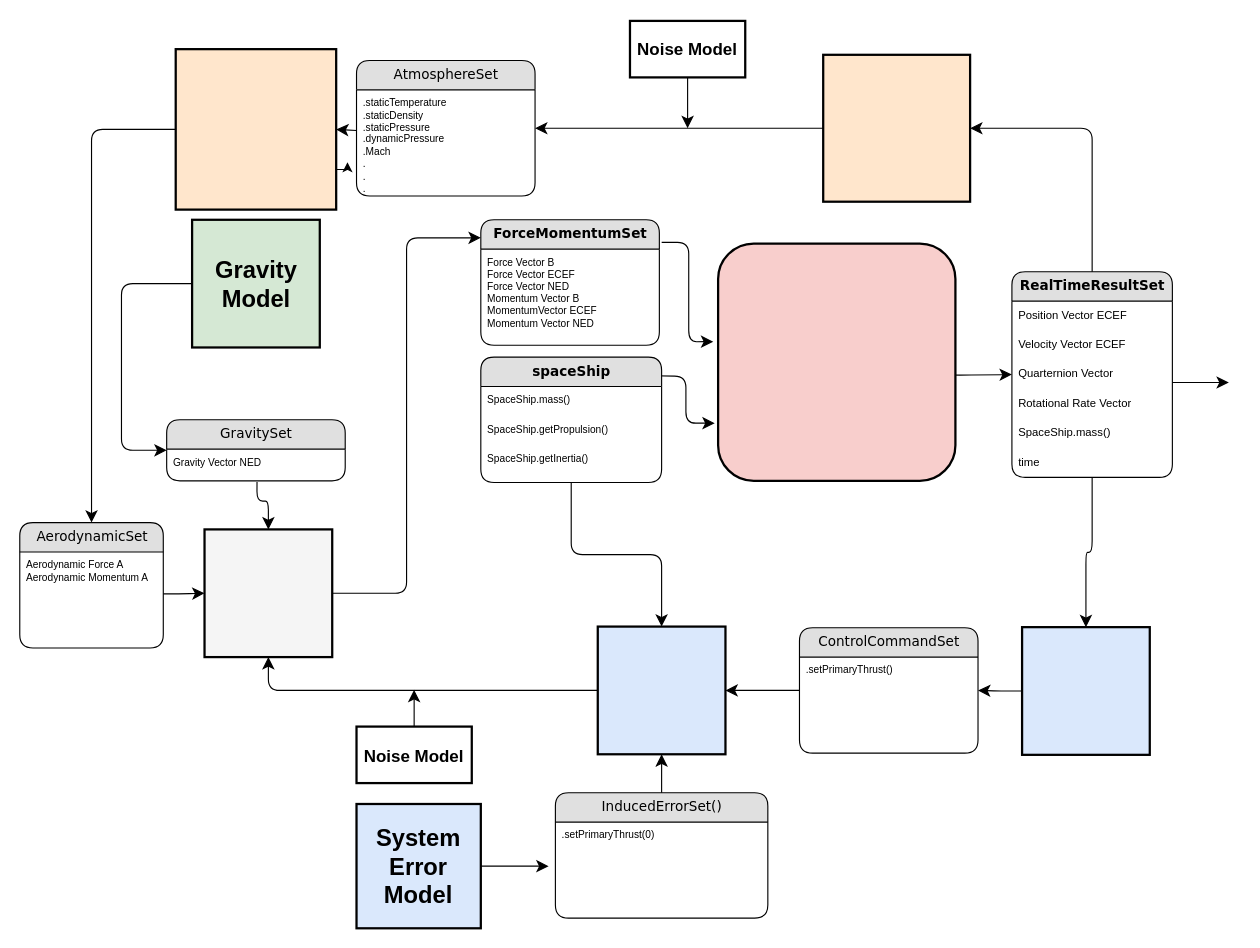
Image size: 1260x948. Some labels were removed from this diagram. The centre of each missing label's shape, as x and y in pixels:
6 DoF Module: (836,361)
Actuator Model: (661,690)
Aerodynamic Model: (255,128)
Atmosphere Model: (896,127)
Controller Model: (1085,690)
Force Model: (268,593)
